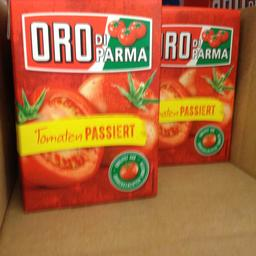tomato_sauce: (8, 0, 160, 213), (158, 4, 240, 164)
